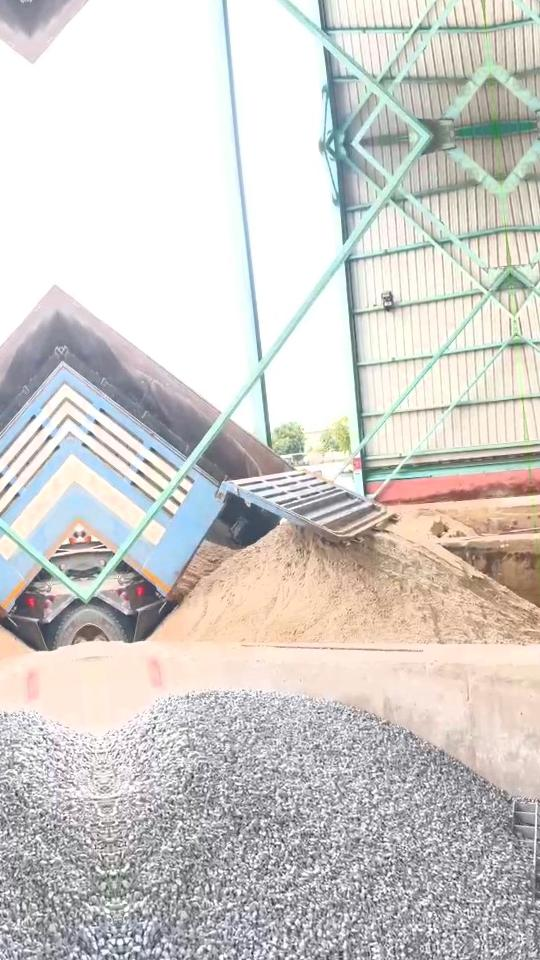gravel: (100, 691, 540, 960)
sand: (153, 524, 540, 643), (170, 540, 234, 601), (399, 509, 475, 539)
